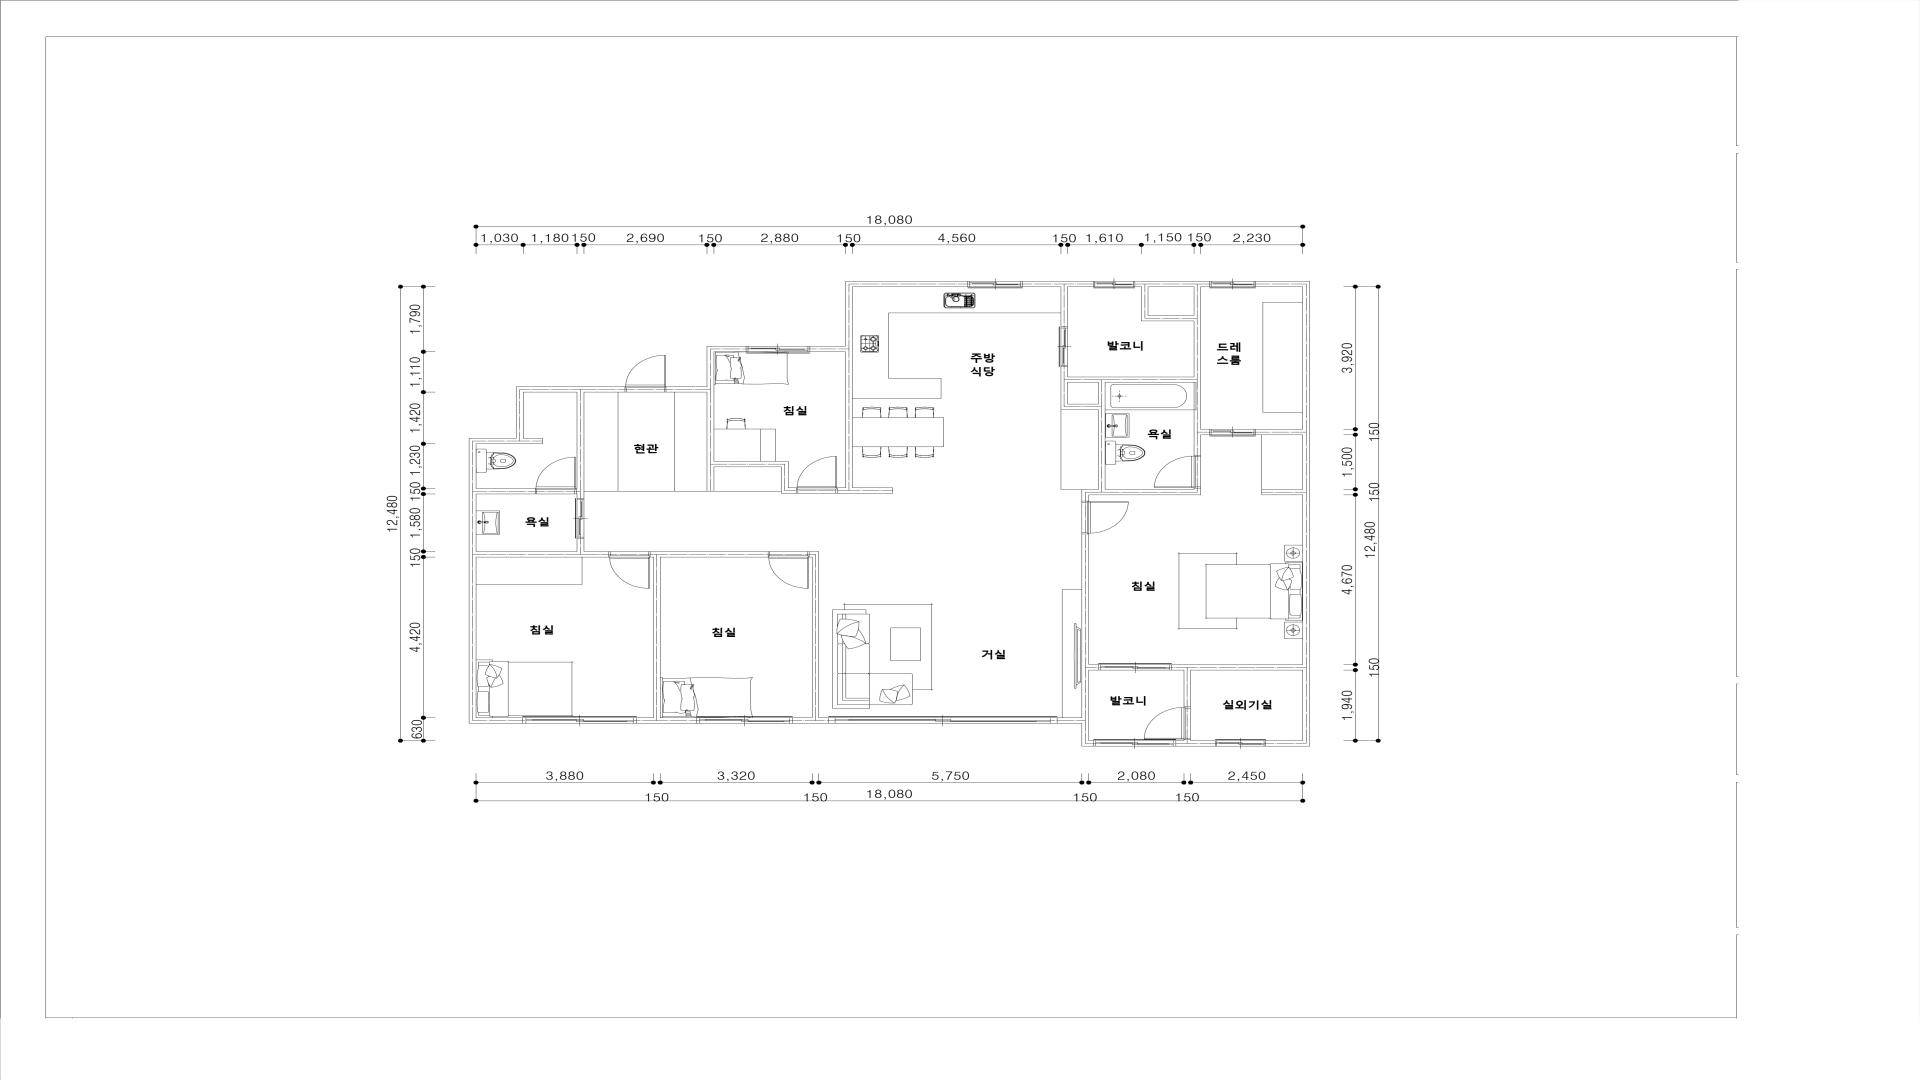door: (1081, 501, 1129, 534), (1154, 455, 1201, 488), (796, 455, 837, 493), (535, 456, 576, 495), (609, 551, 650, 589), (769, 551, 810, 589), (625, 355, 666, 392), (1098, 665, 1171, 670), (576, 498, 584, 538), (1209, 429, 1255, 435)
wall: (469, 386, 625, 551), (650, 551, 769, 717), (1255, 281, 1309, 495), (810, 281, 968, 352), (1266, 495, 1309, 746), (1081, 410, 1201, 501), (469, 551, 522, 724), (837, 352, 893, 493), (1171, 665, 1303, 707), (1068, 377, 1193, 410), (666, 345, 746, 392), (1081, 534, 1098, 717), (1193, 287, 1209, 456), (476, 538, 609, 558), (715, 462, 796, 493), (1141, 287, 1193, 322), (808, 551, 819, 717), (1060, 367, 1098, 410), (1058, 717, 1093, 746), (576, 392, 584, 498), (707, 392, 715, 491), (1134, 281, 1209, 287), (1022, 281, 1093, 287), (476, 488, 535, 495), (637, 717, 696, 724), (1060, 287, 1068, 327), (1176, 740, 1216, 746), (793, 717, 829, 724), (524, 438, 543, 444)
window: (828, 717, 1058, 724), (522, 717, 637, 724), (696, 717, 793, 724), (1093, 740, 1176, 746), (746, 345, 810, 352), (968, 281, 1022, 287), (1216, 740, 1266, 746), (1209, 281, 1255, 287), (1093, 281, 1134, 287)
